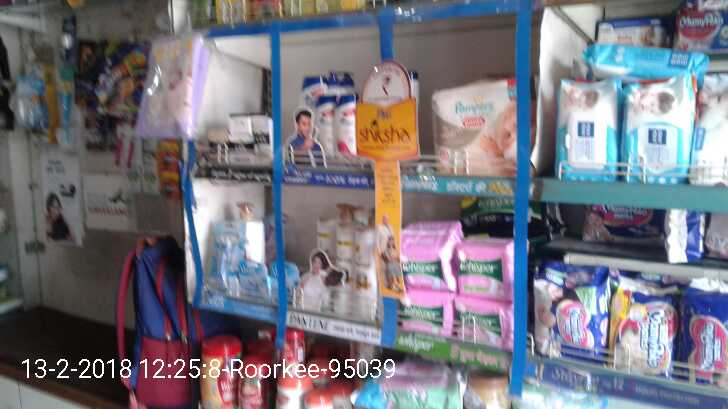venus: (203, 222, 240, 293), (242, 263, 272, 297), (272, 262, 296, 297)
